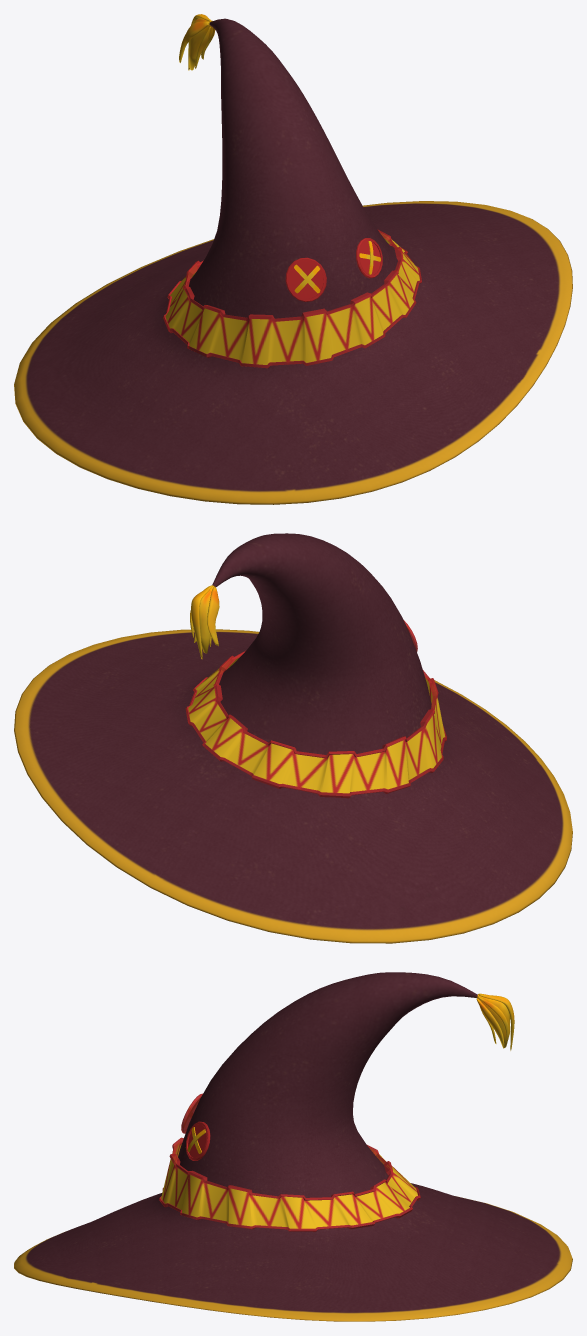
Rendered from megumins_hat.glb.
3 views of the same model, one above another, from view 1: azimuth 30°, elevation 25°; view 2: azimuth 150°, elevation 25°; view 3: azimuth 270°, elevation 25° (orthographic).
Parts seen in each view (by area): view 1: hair_part_5_low; view 2: hair_part_5_low; view 3: hair_part_5_low.
Boxes of the visible parts, x1,y1,x2,y2 form: hair_part_5_low: (14,14,572,504); hair_part_5_low: (14,533,572,943); hair_part_5_low: (14,972,572,1321).
Bounding box in the file's own units: 2 × 1.3 × 1.99.
1 material, 1 textured.
